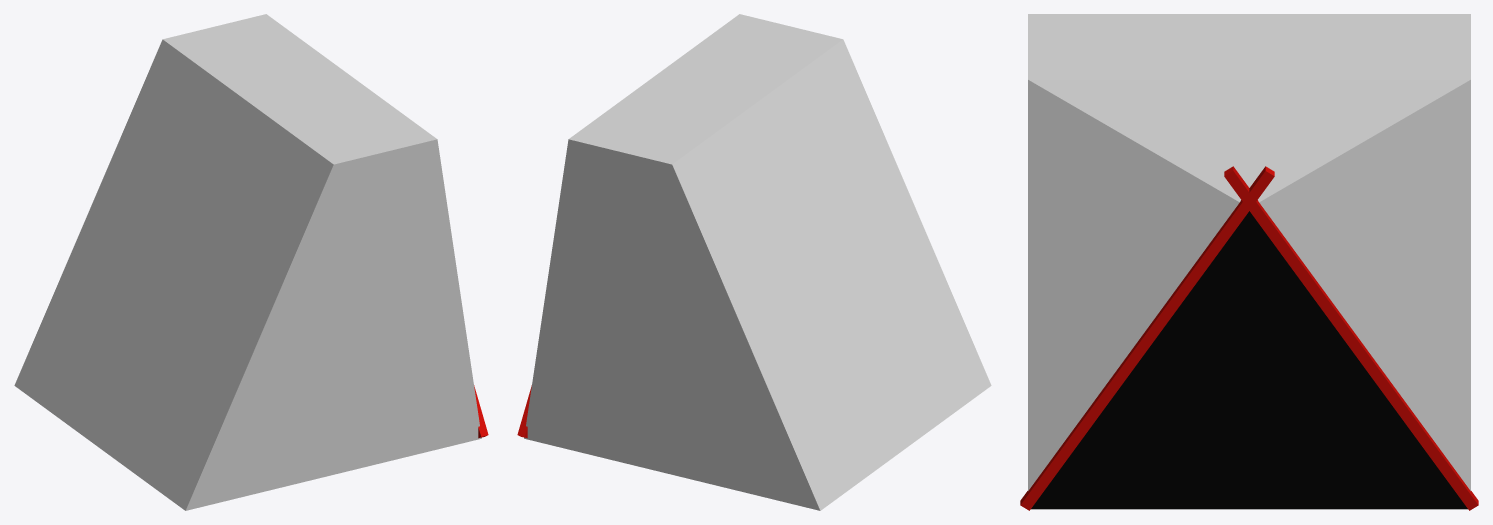
The model's file is mine.glb.
3 views of the same model, side by side, from view 1: azimuth 30°, elevation 25°; view 2: azimuth 150°, elevation 25°; view 3: azimuth 270°, elevation 25° (orthographic). The views are drawn at different scales.
Visible parts, largest first — view 1: Cube; view 2: Cube; view 3: Cube, Cube.001, Cube.002.
Part boxes in pixels (x1,y1,x2,y2): Cube: (14, 14, 481, 510); Cube: (524, 14, 991, 510); Cube: (1028, 14, 1470, 509); Cube.001: (1224, 166, 1478, 510); Cube.002: (1020, 166, 1274, 510).
Size of the model in its own units: 2.03 by 2 by 2.07.
